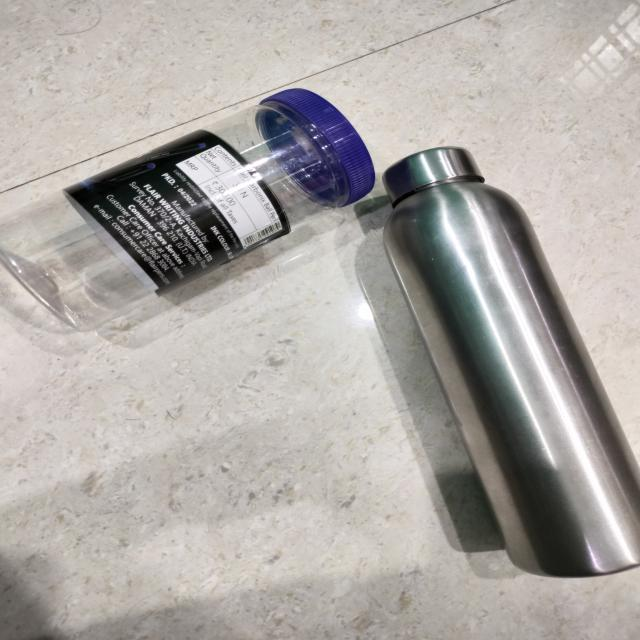dry: (1, 7, 378, 383), (391, 156, 640, 577)
